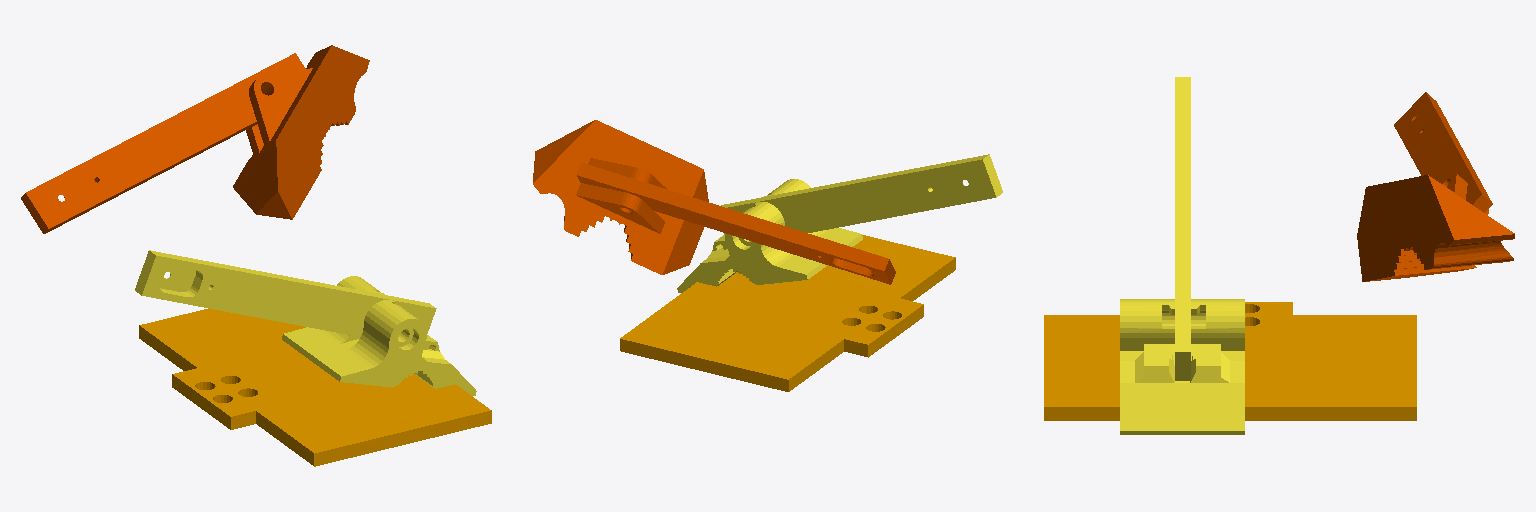
robot.urdf — gripper:
<robot name="gripper">

  <!-- Base Link -->
  <link name="base_link">
  <visual>
      <geometry>
          <mesh
            filename = "package://planner/meshes/BackPlate.stl" scale = "0.254 0.254 0.254"
          />
      </geometry>
    </visual>
  </link>

  <link name="center_bottom_backplate">
  </link>

  <joint name="center_bottom_backplate_joint" type="fixed">
    <parent link="base_link"/>
    <child link="center_bottom_backplate"/>
    <origin xyz="1.0287 1.016 0.4572" rpy="0.0 -1.571 3.1416"/>
  </joint>
  
  <!-- Finger 1 Intermediate Link -->
  <link name="finger1_pivot">
    <inertial>
      <mass value="0.0"/>
      <inertia ixx="0.0" ixy="0.0" ixz="0.0" iyy="0.0" iyz="0.0" izz="0.0"/>
    </inertial>
  </link>

  <!-- Joint for Finger 1 Pivot -->
  <joint name="finger1_pivot_joint" type="revolute">
    <parent link="base_link"/>
    <child link="finger1_pivot"/>
    <origin xyz="-0.254 0.8636 1.1678" rpy="0.0 0.0 0"/>
    <axis xyz="0 1 0"/>
    <limit lower="0.0" upper="1.57" effort="0" velocity="0"/>
  </joint>
  
  <!-- Finger 1 -->
  <link name="finger1">
    <visual>
      <geometry>
          <mesh
  	   filename = "package://planner/meshes/main_gripper.stl" scale = "0.254 0.254 0.254"
          />
      </geometry>
    </visual>
  </link>

  <!-- Finger 1 Joint -->
  <joint name="finger1_joint" type="fixed">
    <parent link="finger1_pivot"/>
    <child link="finger1"/>
    <origin xyz="-0.381 0 -1.27" rpy="0.0 0.0 0"/>
  </joint>

  <!-- Repeat for Finger 2 -->
  <!-- Finger w Intermediate Link -->
  <link name="finger2_pivot">
    <inertial>
      <mass value="0.0"/>
      <inertia ixx="0.0" ixy="0.0" ixz="0.0" iyy="0.0" iyz="0.0" izz="0.0"/>
    </inertial>
  </link>

  <!-- Joint for Finger 2 Pivot -->
  <joint name="finger2_pivot_joint" type="revolute">
    <parent link="base_link"/>
    <child link="finger2_pivot"/>
    <origin xyz="-0.254 1.778 1.1684" rpy="0 0 0"/>
    <axis xyz="0 1 -1"/>
    <limit lower="-1.57" upper="-0.13" effort="0" velocity="0"/>
  </joint>

  <link name="finger2">
    <visual>
      <geometry>
	<mesh
  	 filename = "package://planner/meshes/45_degree_gripper.stl" scale = "0.254 0.254 0.254"
	/>
      </geometry>
    </visual>
  </link>

  <!-- Finger 2 Joint -->
  <joint name="finger2_joint" type="fixed">
    <parent link="finger2_pivot"/>
    <child link="finger2"/>
    <origin xyz="-0.381 -1.143 -1.27" rpy="0 0 0"/>
  </joint>


</robot>

--- What the picture shows (computed from the rendered views, not written in the file) ---
3 views of the same robot in one strip: view 1: azimuth 30°, elevation 25°; view 2: azimuth 150°, elevation 25°; view 3: azimuth 270°, elevation 25° (orthographic).
Model gripper with 6 links and 5 joints (2 revolute, 3 fixed), rooted at base_link, posed all joints at 0 but 1 set to mid-range because 0 is outside their limits (finger2_pivot_joint = -0.85).
Visible links, largest first — view 1: base_link, finger2, finger1; view 2: base_link, finger2, finger1; view 3: base_link, finger1, finger2.
Boxes of the visible links, left/top/right/bottom form: base_link: left=139, top=308, right=491, bottom=466; finger2: left=21, top=45, right=369, bottom=233; finger1: left=135, top=250, right=476, bottom=395; base_link: left=620, top=235, right=955, bottom=391; finger2: left=533, top=120, right=895, bottom=284; finger1: left=677, top=154, right=1002, bottom=292; base_link: left=1044, top=302, right=1416, bottom=420; finger1: left=1120, top=77, right=1244, bottom=434; finger2: left=1357, top=92, right=1514, bottom=281.
Size in the robot's own frame: 1.81 by 1.93 by 1.18 metres.
Meshes: 3 distinct files referenced, 3 mesh visuals loaded (3 binary STL).